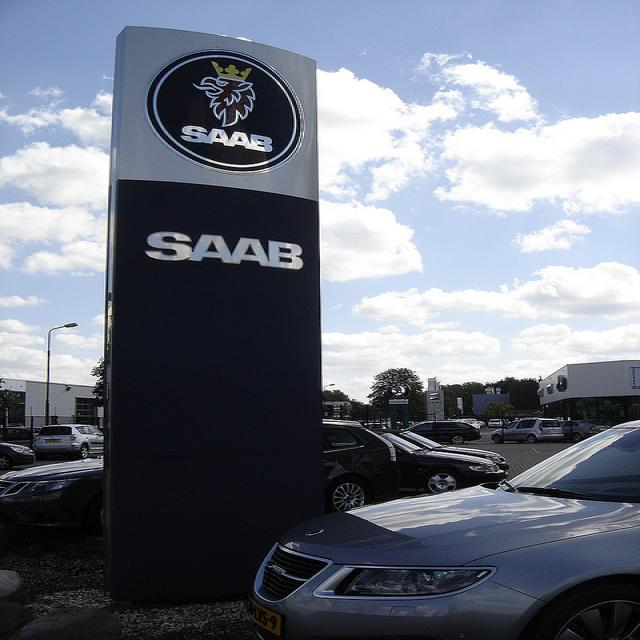Vehicle: (245, 418, 640, 640), (379, 429, 503, 492), (323, 420, 397, 512), (367, 428, 510, 469), (31, 423, 104, 460), (491, 417, 564, 445), (402, 421, 483, 445), (562, 420, 598, 440), (487, 419, 503, 429)
